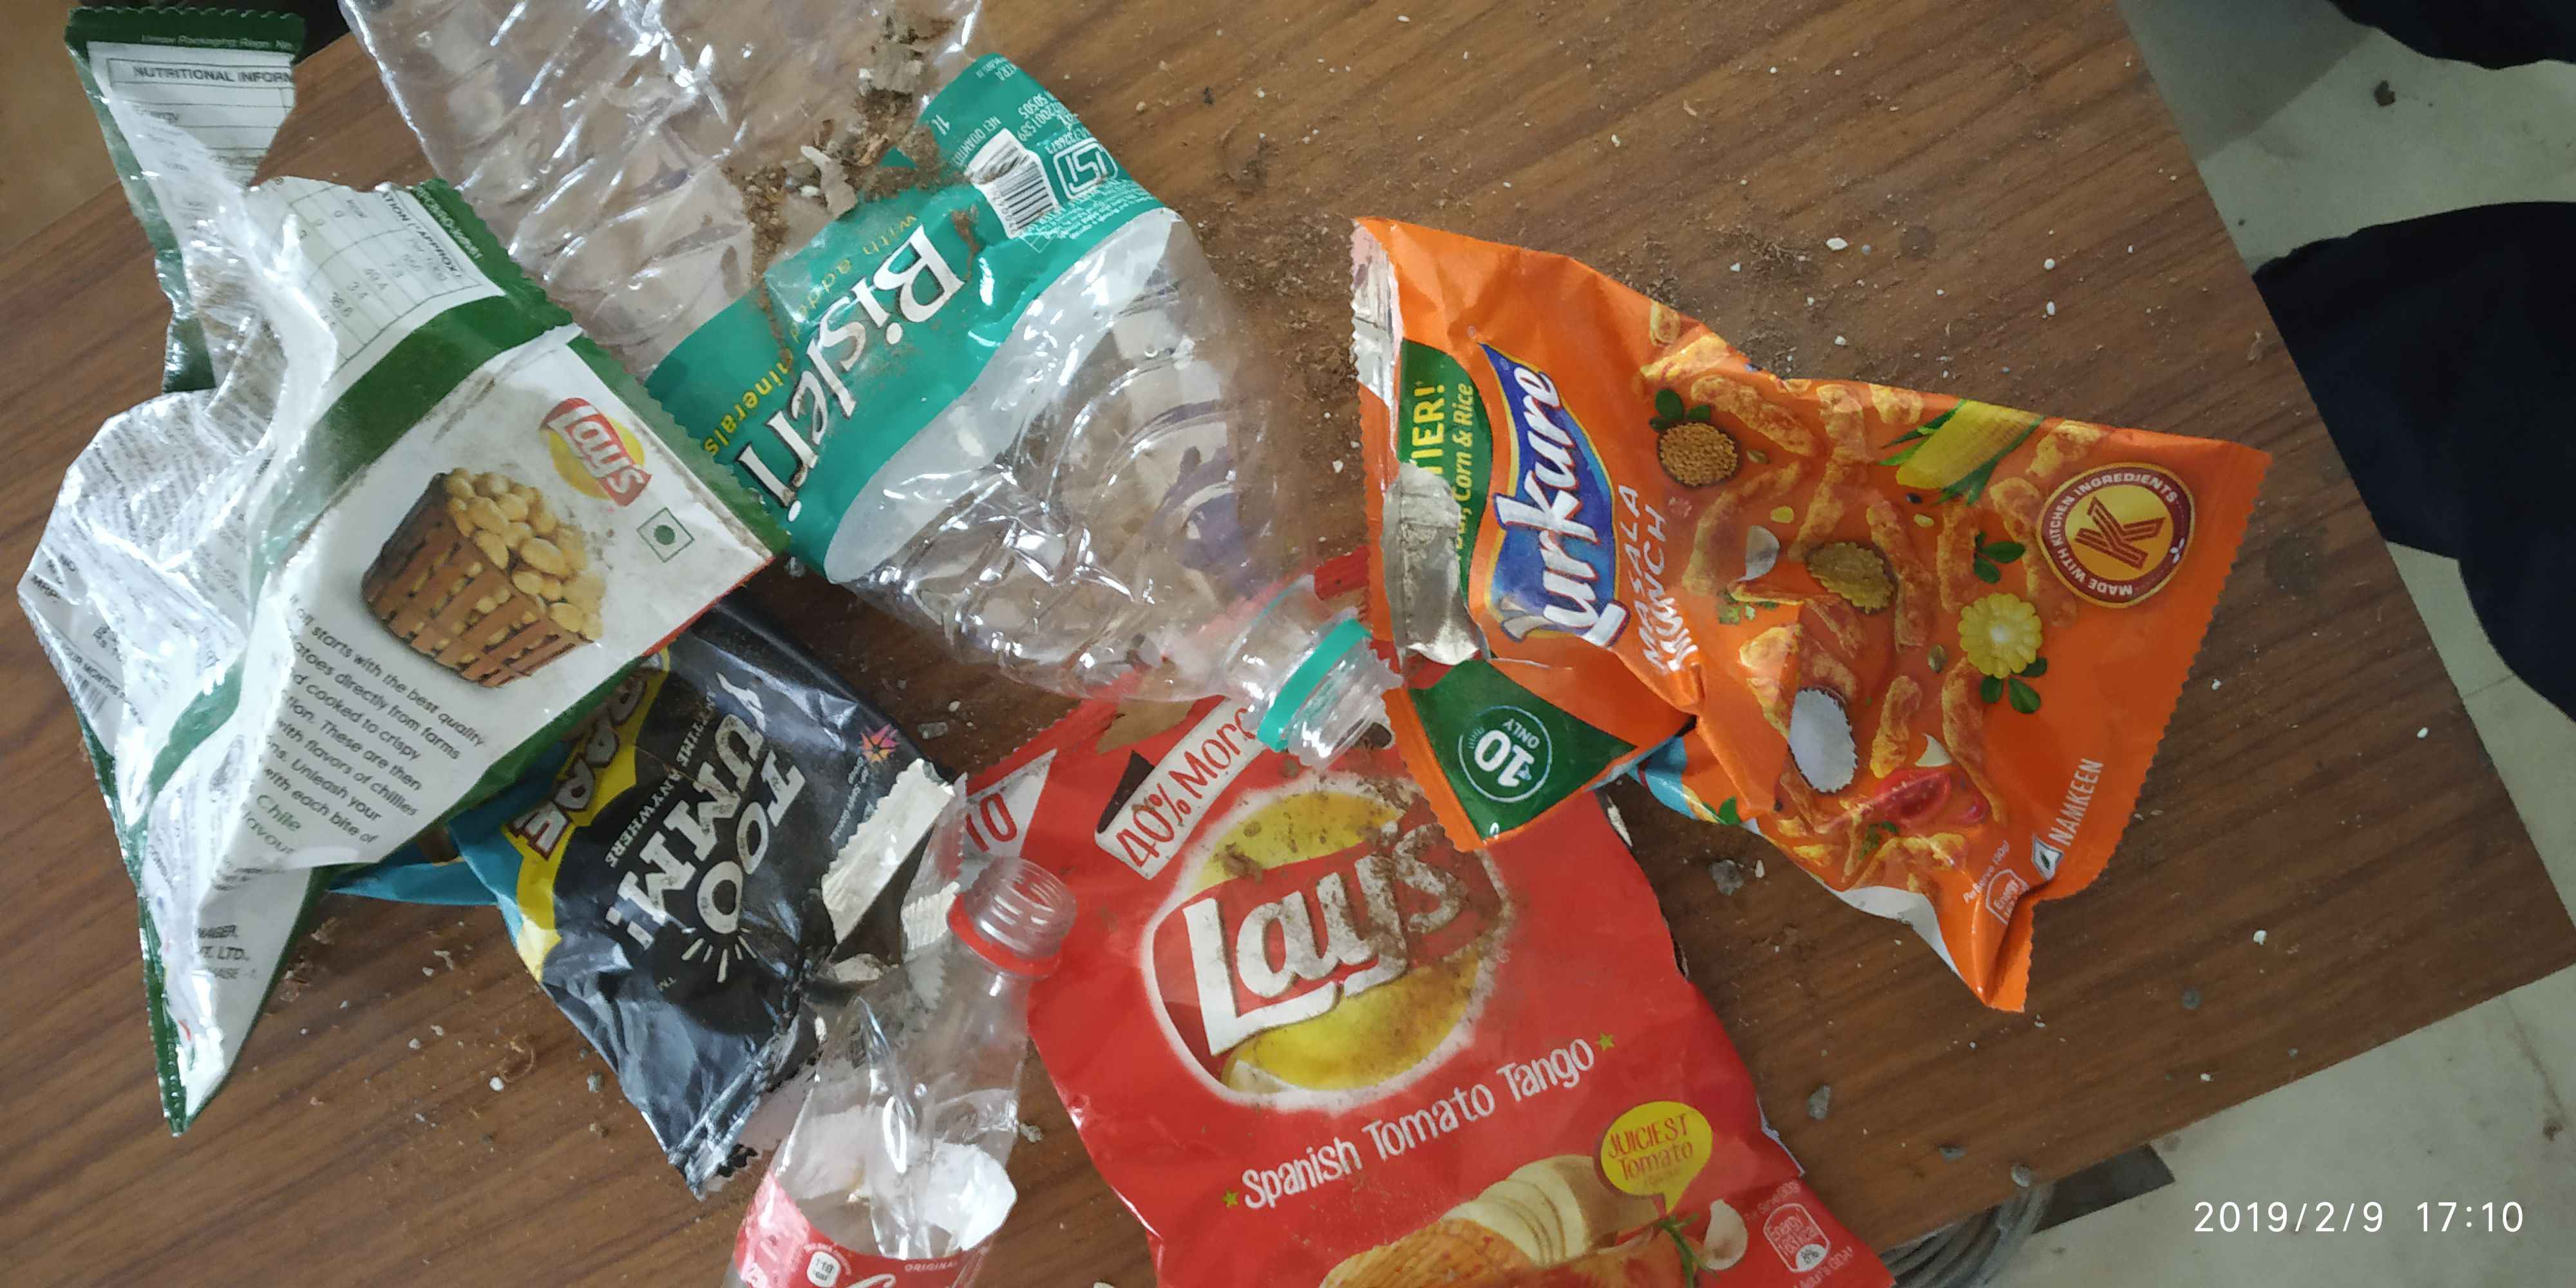Bisleri: (738, 176, 984, 534)
Coca-Cola: (838, 1257, 958, 1288)
Lays: (1147, 774, 1493, 1140), (513, 388, 690, 522)
kurkure: (1479, 324, 1654, 674)
tooyumm: (577, 685, 835, 958)
